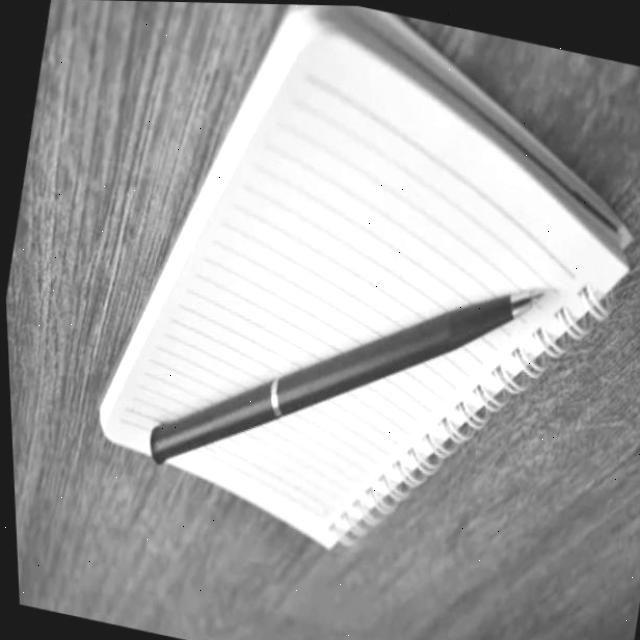pencil: (135, 279, 562, 465)
